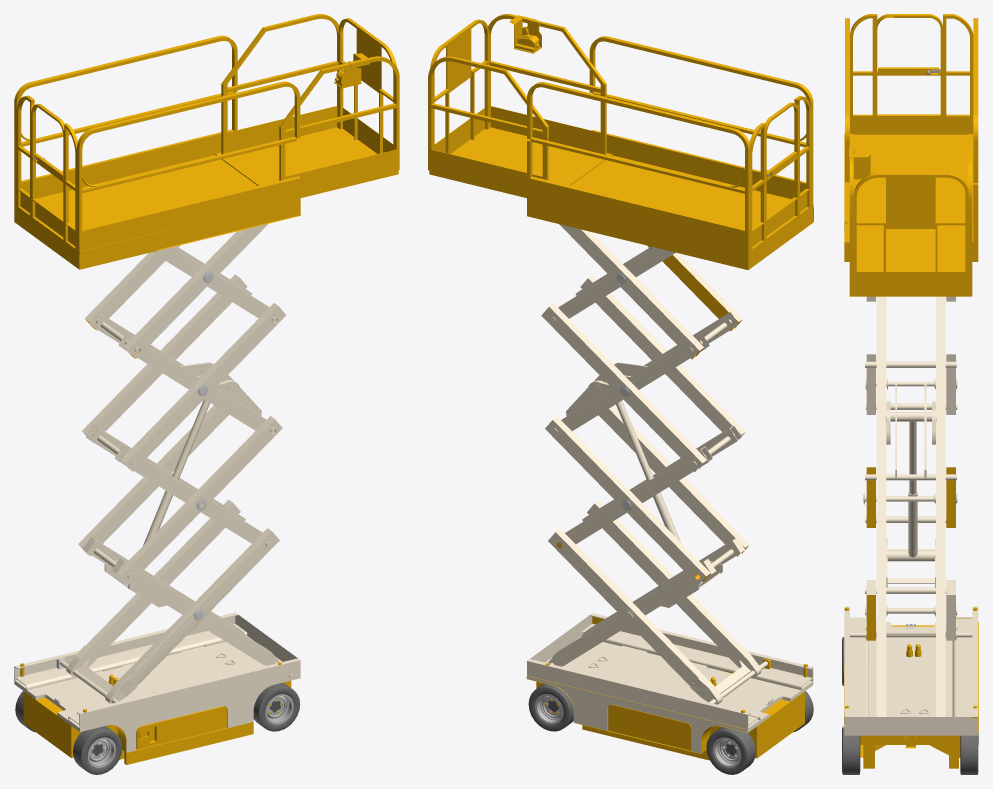
Rendered from Scissor+lift.glb.
3 views of the same model, side by side, from view 1: azimuth 30°, elevation 25°; view 2: azimuth 150°, elevation 25°; view 3: azimuth 270°, elevation 25° (orthographic). The views are drawn at different scales.
Parts seen in each view (by area): view 1: object 9, object 17, object 16, object 11, object 8, skeF (×2), object 10, object 7; view 2: object 9, object 17, object 16, object 11, object 7, object 10, skeF (×2), object 8; view 3: object 9, object 16, object 17, object 11, object 10, skeF (×2), ske11, object 7, object 8.
Boxes of the visible parts, x1=… form: object 9: x1=14, y1=14, x2=399, y2=269; object 17: x1=21, y1=133, x2=282, y2=703; object 16: x1=14, y1=612, x2=300, y2=764; object 11: x1=83, y1=399, x2=294, y2=679; object 8: x1=121, y1=303, x2=286, y2=471; skeF (×2): x1=73, y1=682, x2=300, y2=774; object 10: x1=89, y1=311, x2=275, y2=433; object 7: x1=82, y1=274, x2=247, y2=442; object 9: x1=428, y1=14, x2=813, y2=269; object 17: x1=545, y1=134, x2=806, y2=704; object 16: x1=526, y1=613, x2=813, y2=760; object 11: x1=548, y1=401, x2=744, y2=666; object 7: x1=541, y1=303, x2=706, y2=471; object 10: x1=552, y1=312, x2=738, y2=434; skeF (×2): x1=528, y1=683, x2=755, y2=774; object 8: x1=580, y1=275, x2=745, y2=443; object 9: x1=844, y1=14, x2=978, y2=296; object 16: x1=844, y1=606, x2=978, y2=768; object 17: x1=850, y1=296, x2=972, y2=657; object 11: x1=842, y1=421, x2=945, y2=729; object 10: x1=865, y1=379, x2=956, y2=492; skeF (×2): x1=842, y1=727, x2=978, y2=774; ske11: x1=863, y1=378, x2=957, y2=616; object 7: x1=946, y1=354, x2=955, y2=414; object 8: x1=866, y1=354, x2=875, y2=414.
Bounding box in the file's own units: 5.81 × 11.11 × 2.08.
